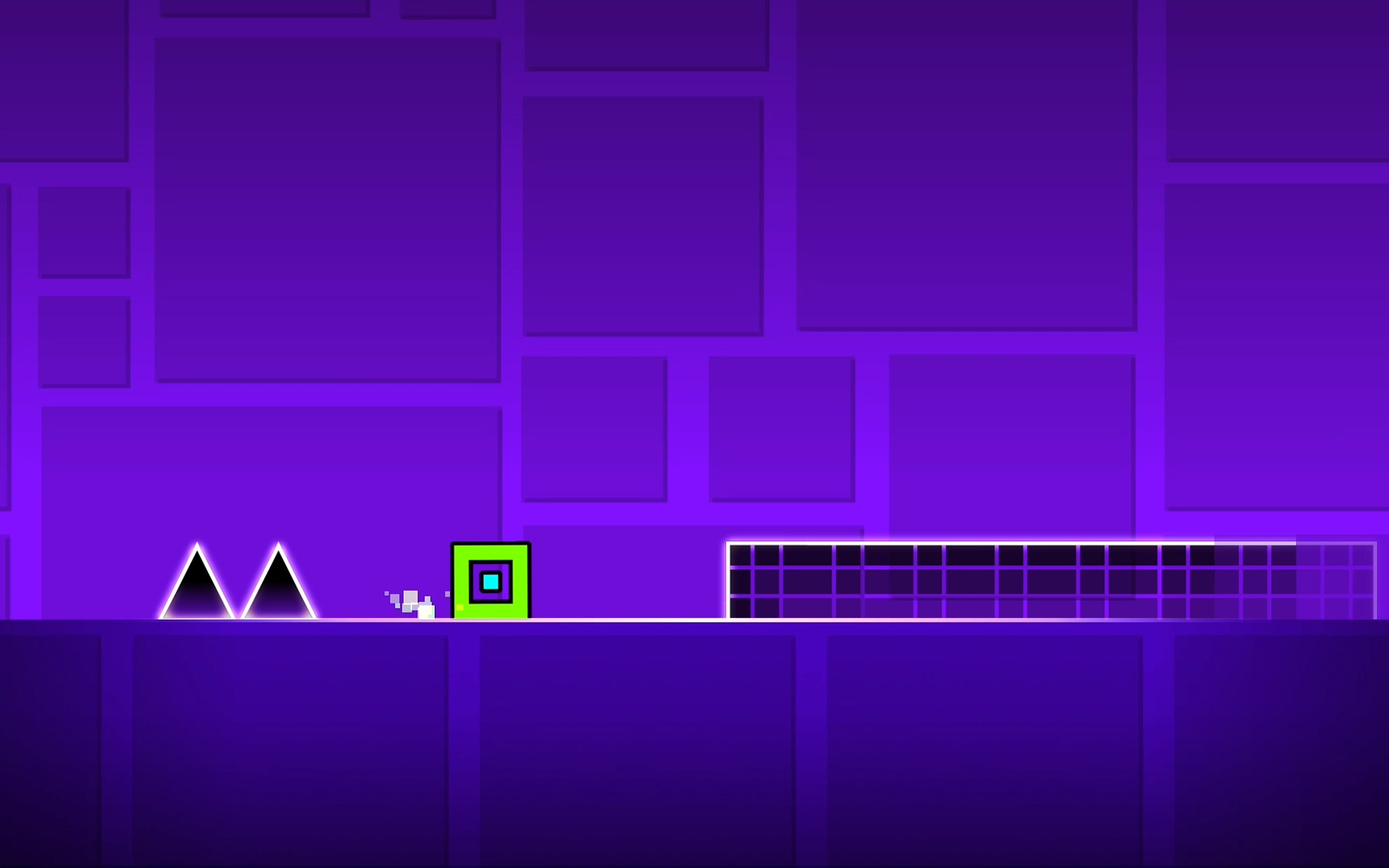Block2: (730, 540, 1377, 614)
Player: (449, 541, 531, 617)
Spike: (239, 542, 316, 618), (158, 542, 234, 618)
